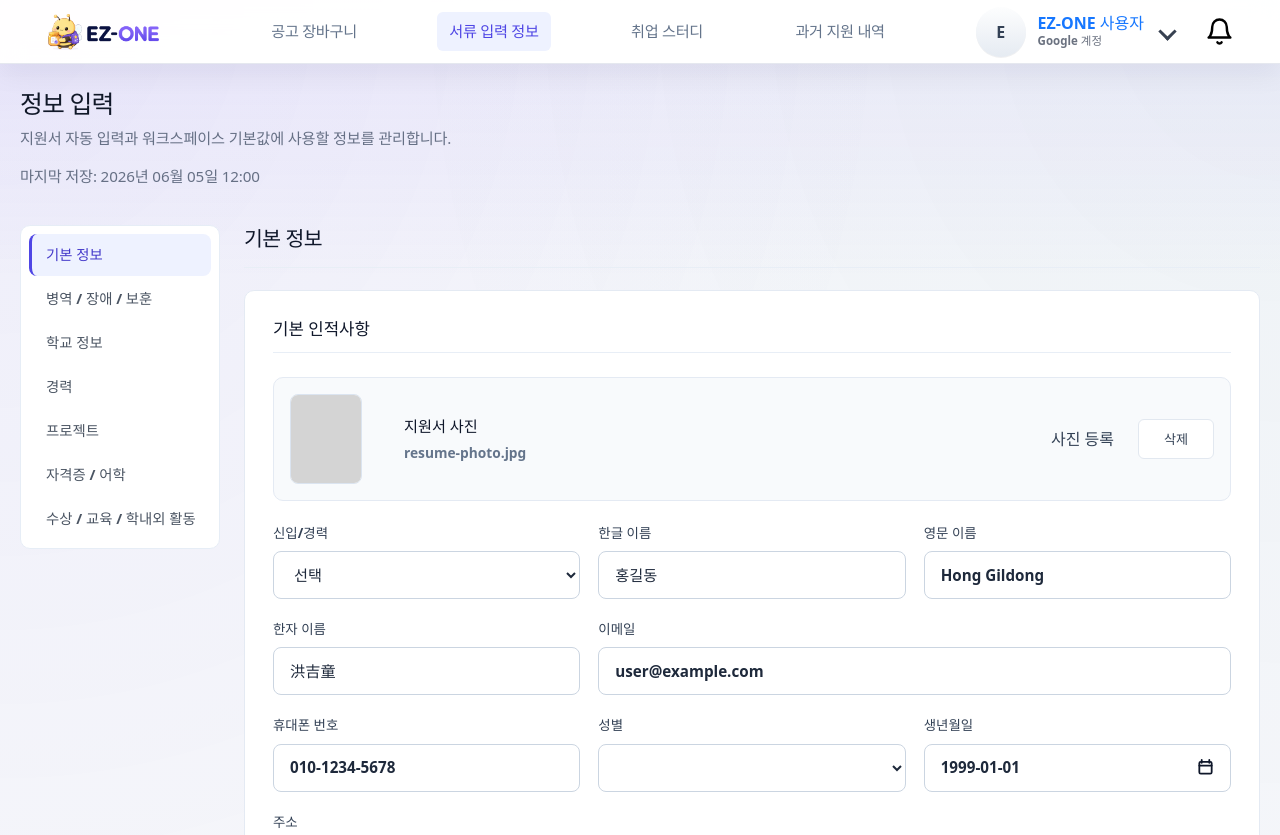
Scenario: DocumentProfilePage › PROFILE-012/013: places transfer status in the school entry header
Click the button with test id "section-education" at coordinates (120, 343), box [29,322,211,364]
(page scrolled)
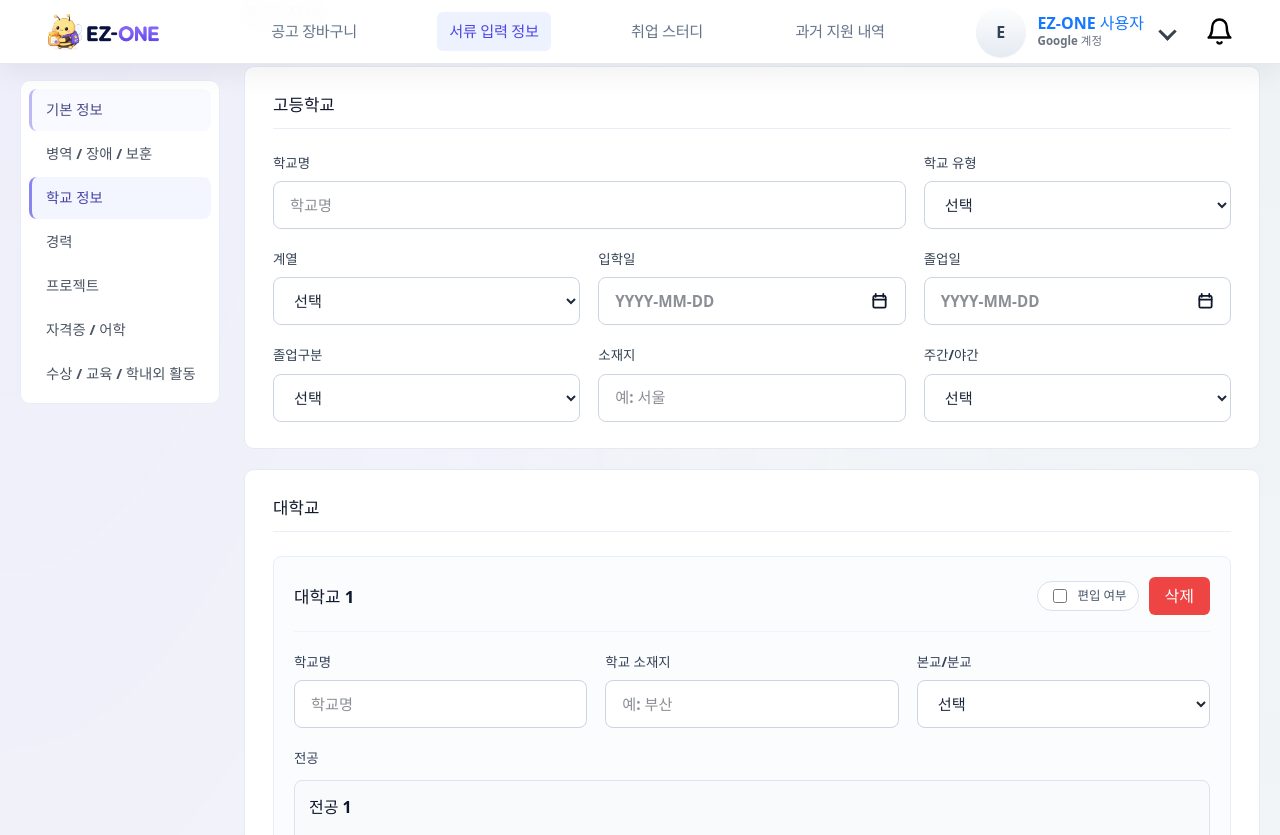
Expected: the element with test id "universities-0-isTransfer" is shown, [294,577,1210,632]
Expected: the label with test id "universities-0-isTransfer" reads "편입 여부", [1077,587,1126,604]
